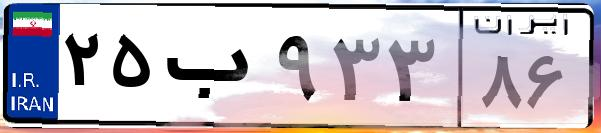2: (57, 26, 110, 100)
3: (385, 28, 445, 110), (330, 28, 385, 110)
5: (110, 28, 158, 98)
6: (525, 38, 570, 115)
8: (475, 38, 525, 113)
9: (270, 28, 330, 110)
ب: (158, 20, 270, 120)
